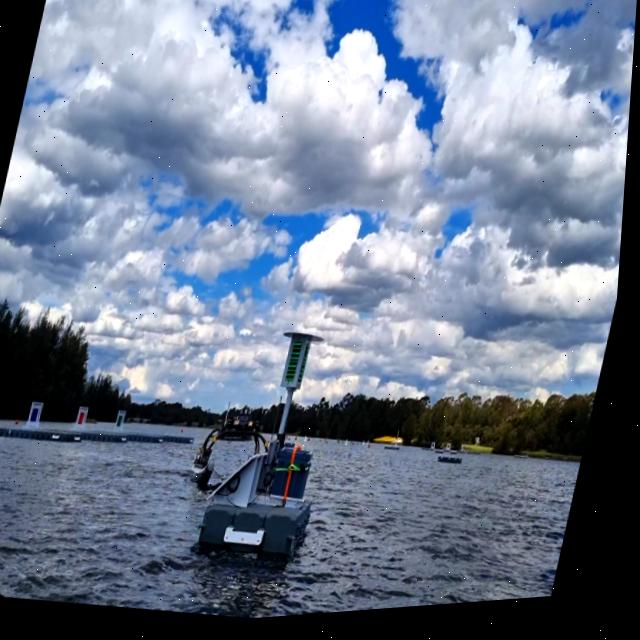led: (288, 343, 311, 392)
